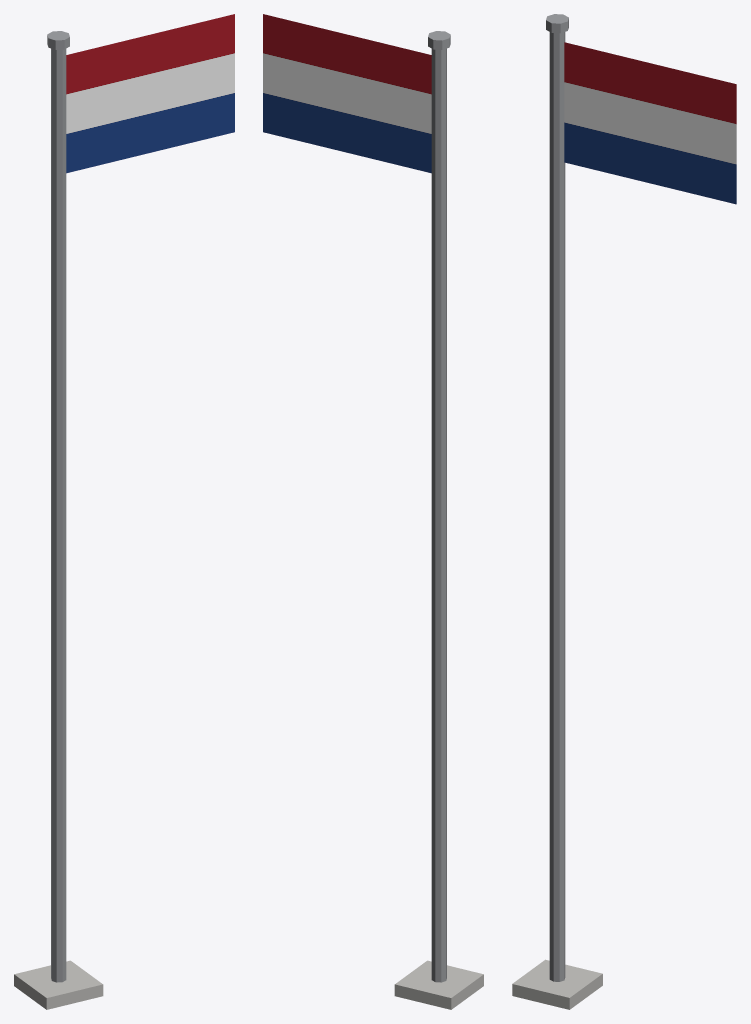
The model's file is flag_pole.glb.
3 views of the same model, side by side, from view 1: azimuth 30°, elevation 25°; view 2: azimuth 150°, elevation 25°; view 3: azimuth 330°, elevation 25° (orthographic).
Parts seen in each view (by area): view 1: flag_pole; view 2: flag_pole; view 3: flag_pole.
Part boxes in pixels (x1=…): flag_pole: x1=14, y1=14, x2=234, y2=1009; flag_pole: x1=263, y1=14, x2=483, y2=1009; flag_pole: x1=512, y1=14, x2=736, y2=1009.
Bounding box in the file's own units: 1.81 × 8.08 × 0.5.
Materials: 3 (1 with a texture image).
